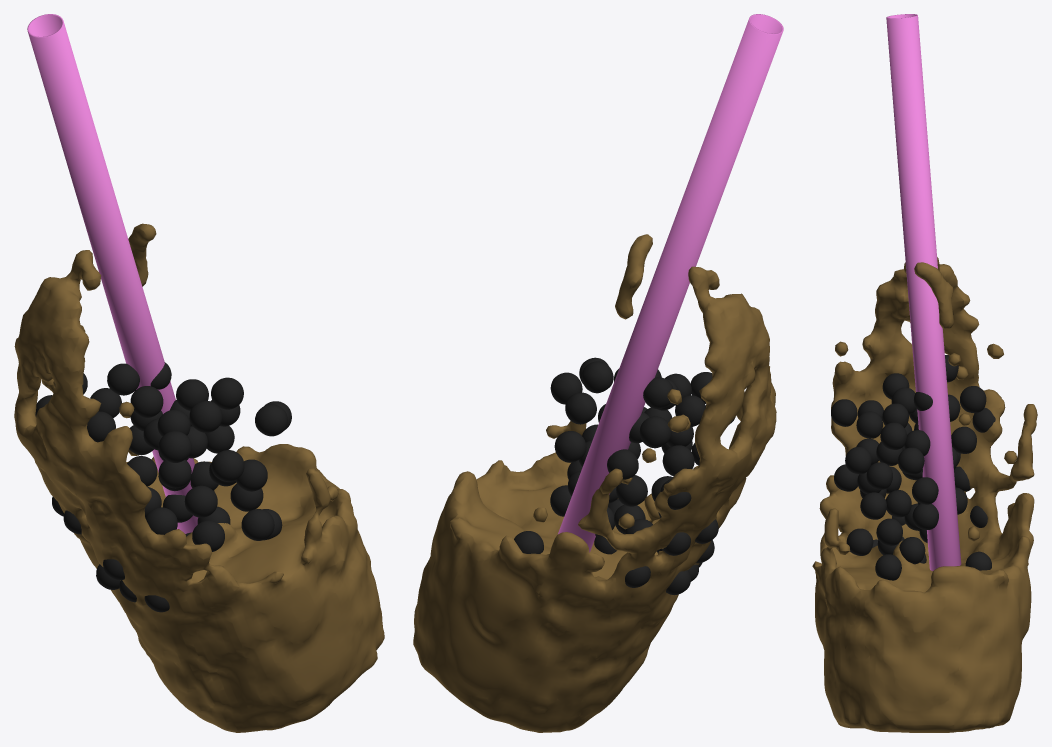
Rendered from tea.glb.
The picture shows the model from 3 angles, left to right: view 1: azimuth 30°, elevation 25°; view 2: azimuth 150°, elevation 25°; view 3: azimuth 270°, elevation 25°; orthographic projection. The views are drawn at different scales.
Parts seen in each view (by area): view 1: domain_Cube, boba_Sphère.002, straw_Cylindre.001; view 2: domain_Cube, straw_Cylindre.001, boba_Sphère.002; view 3: domain_Cube, boba_Sphère.002, straw_Cylindre.001.
Part boxes in pixels (<box>): domain_Cube: <box>14,223,384,732</box>; boba_Sphère.002: <box>35,362,291,612</box>; straw_Cylindre.001: <box>27,14,198,533</box>; domain_Cube: <box>413,234,776,732</box>; straw_Cylindre.001: <box>558,14,783,552</box>; boba_Sphère.002: <box>514,357,735,595</box>; domain_Cube: <box>812,257,1037,732</box>; boba_Sphère.002: <box>831,355,995,580</box>; straw_Cylindre.001: <box>886,14,961,570</box>.
Size of the model in its own units: 2.46 by 5.1 by 1.63.
